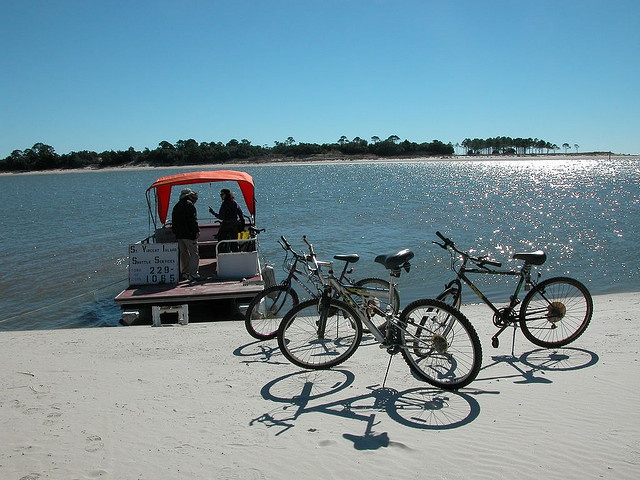non-vehicle: (277, 239, 482, 394), (412, 229, 594, 358), (244, 233, 396, 341)
